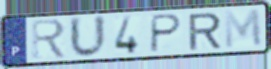4: (112, 14, 142, 56)
M: (222, 7, 264, 51)
P: (148, 13, 184, 55)
R: (30, 18, 69, 60), (187, 11, 224, 52)
U: (68, 14, 109, 61)
